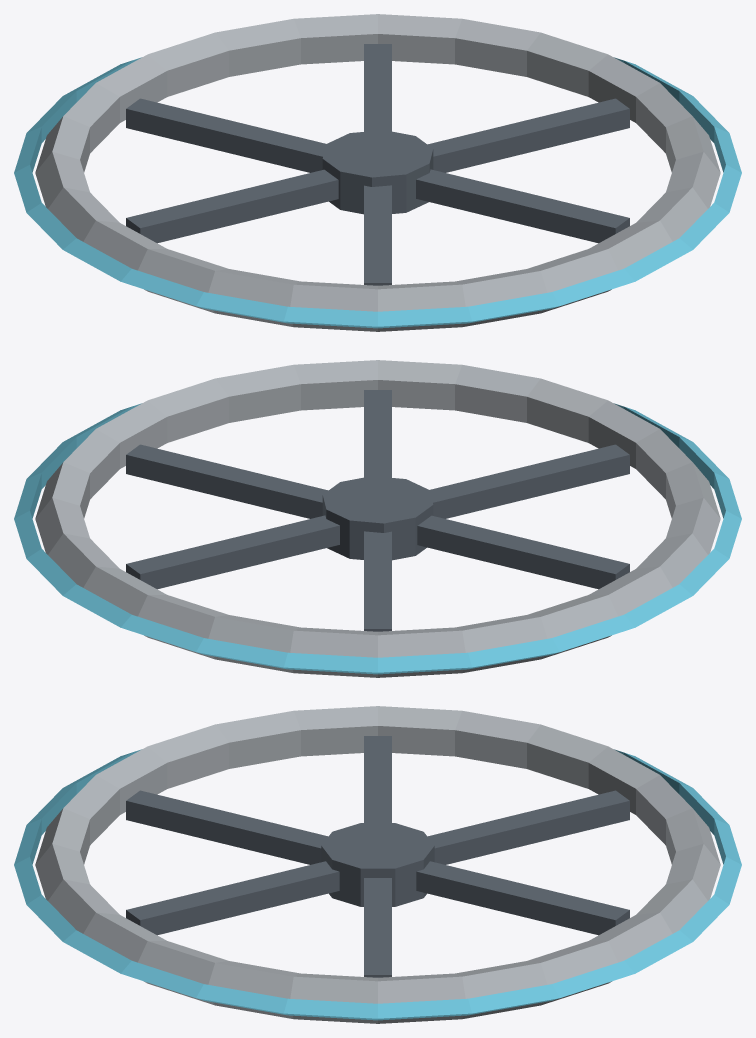
File: chakram.glb
3 views of the same model, one above another, from view 1: azimuth 30°, elevation 25°; view 2: azimuth 150°, elevation 25°; view 3: azimuth 270°, elevation 25° (orthographic).
Parts seen in each view (by area): view 1: m; view 2: m; view 3: m.
Boxes of the visible parts, <box> form: m: <box>14,14,741,331</box>; m: <box>14,360,741,677</box>; m: <box>14,706,741,1023</box>.
Bounding box in the file's own units: 0.1 × 0.00646 × 0.1.
